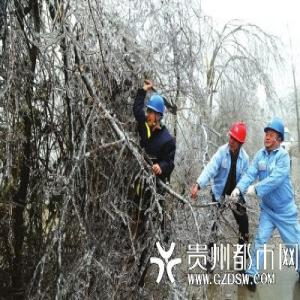blue: (145, 93, 166, 129), (265, 117, 286, 151)
red: (228, 122, 247, 153)
